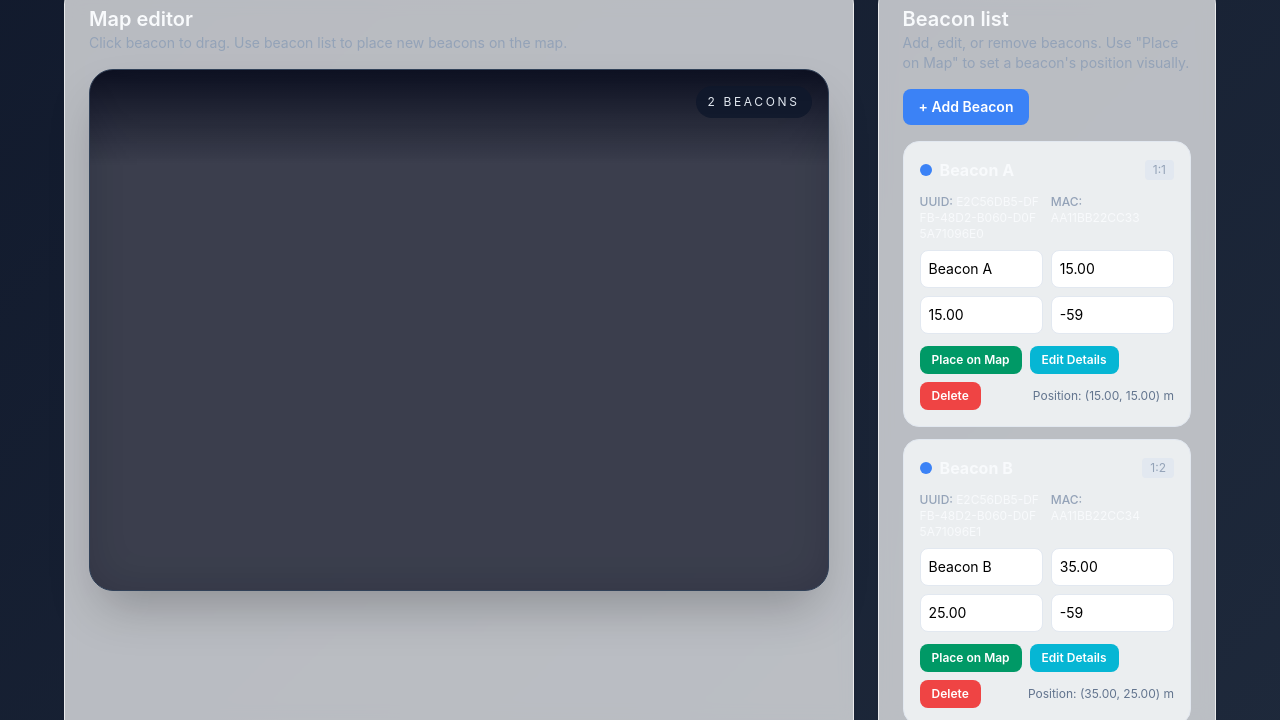
ConfigurationPage - Map Configuration Tab - Beacon Placement › allows placing beacons on imported layout
(page scrolled)
Click the button "Place on Map" below "AA11BB22CC33": (971, 360) top-left (920, 346), bottom-right (1022, 374)
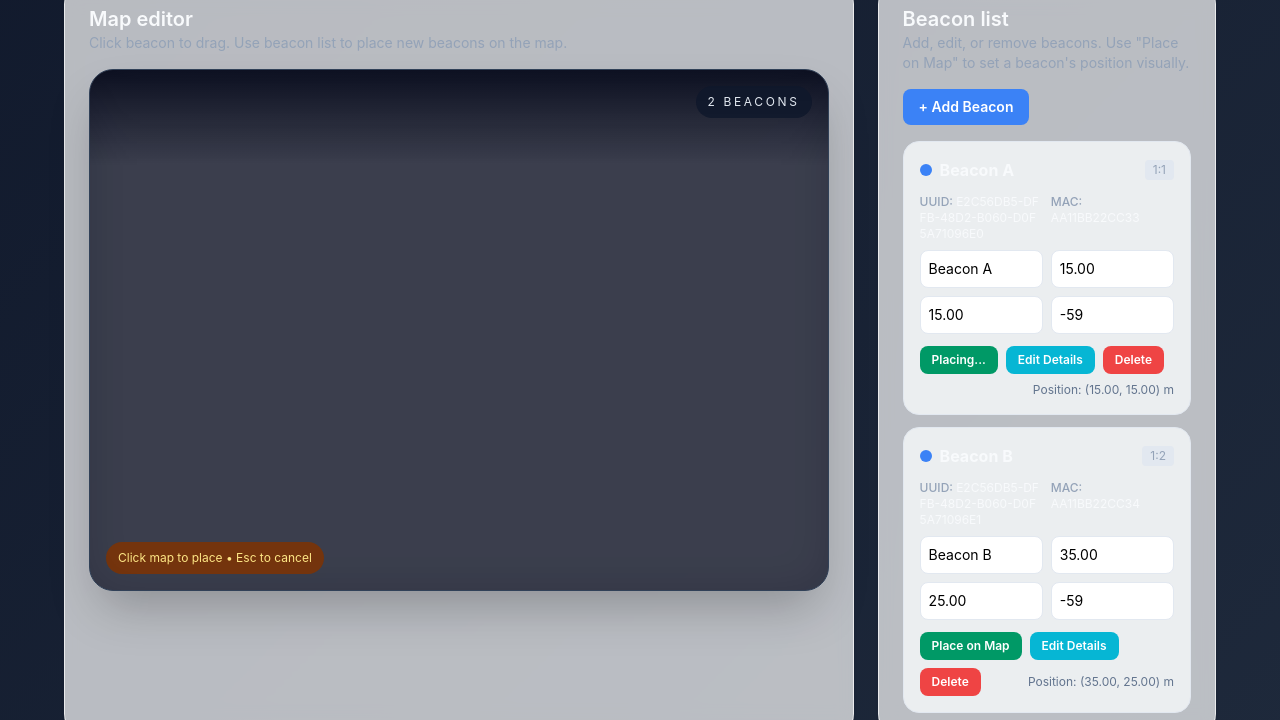
Check: the text "Click map to place • Esc to cancel" is shown, box top-left (106, 542), bottom-right (324, 574)
